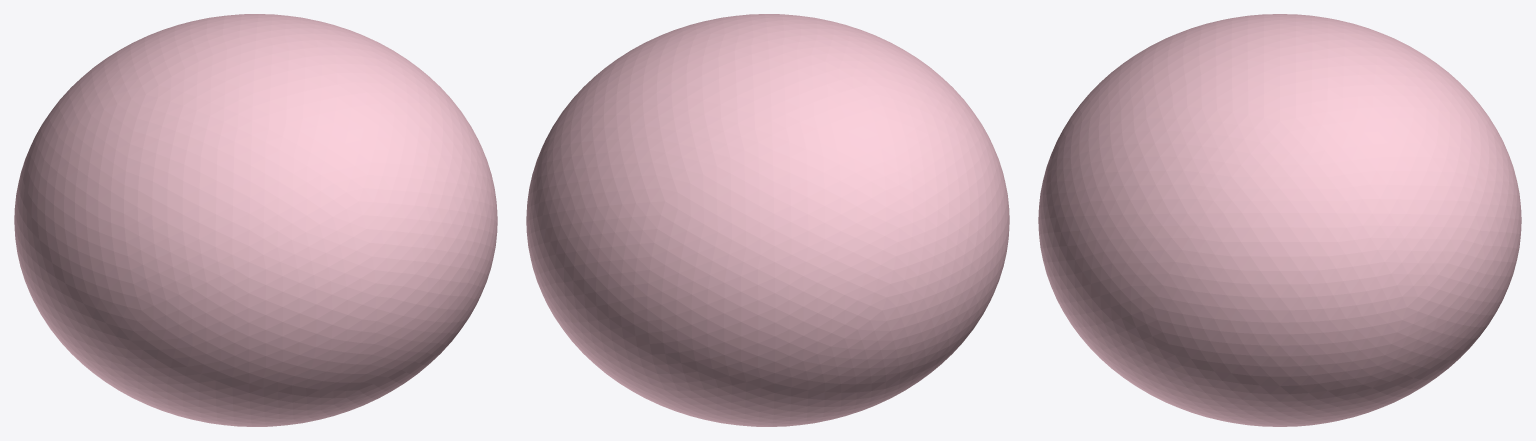
File: animal-cell.glb
3 renders of one model, left to right at view 1: azimuth 30°, elevation 25°; view 2: azimuth 150°, elevation 25°; view 3: azimuth 270°, elevation 25°, orthographic.
Visible parts, largest first — view 1: CellMembrane; view 2: CellMembrane; view 3: CellMembrane.
Part boxes in pixels (<box>): CellMembrane: <box>14,14,497,426</box>; CellMembrane: <box>526,14,1009,426</box>; CellMembrane: <box>1038,14,1521,426</box>.
Size of the model in its own units: 4 by 3.28 by 4.
